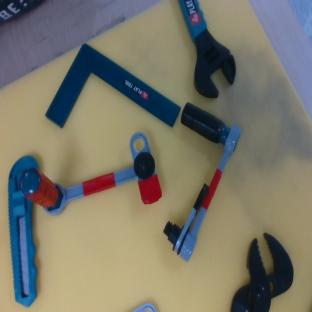non_pass: (130, 102, 244, 262)
pass: (14, 131, 163, 232)
